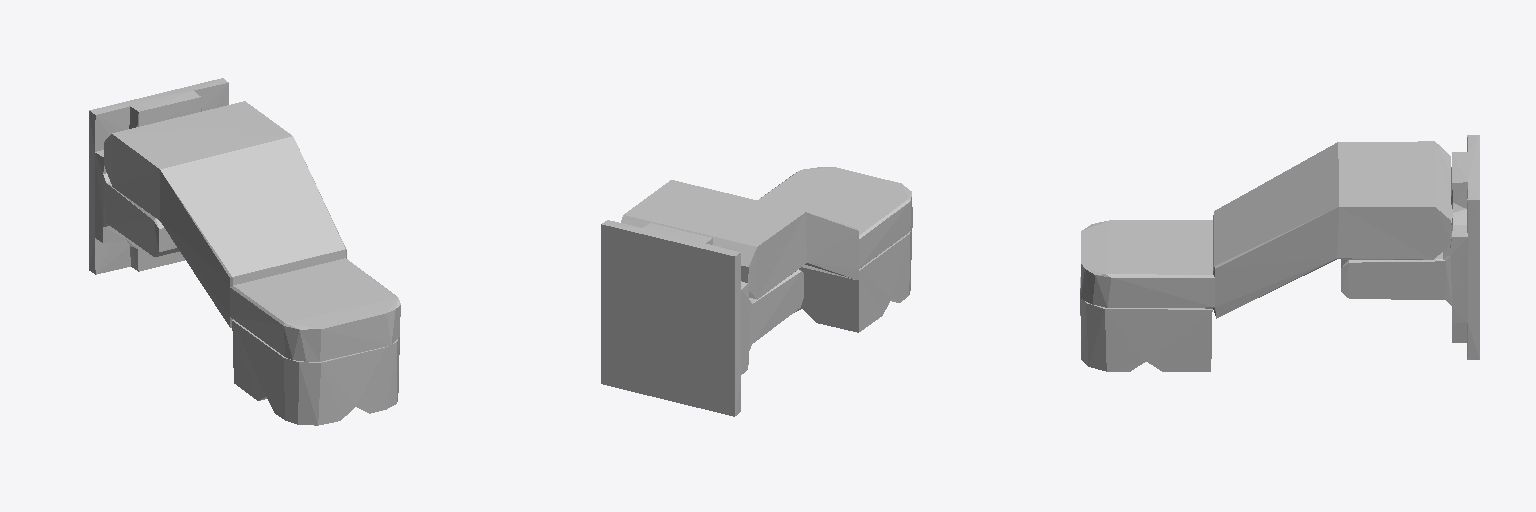
Rendered from panda_right_leftfinger_geometry_panda_leftfinger.obj.
3 renders of one model, left to right at view 1: azimuth 30°, elevation 25°; view 2: azimuth 150°, elevation 25°; view 3: azimuth 270°, elevation 25°, orthographic.
Bounding box in the file's own units: 0.021 × 0.0264 × 0.0538.